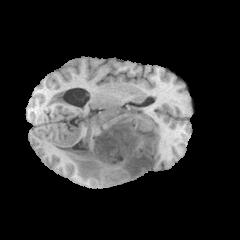glioma: (53, 103, 160, 187)
